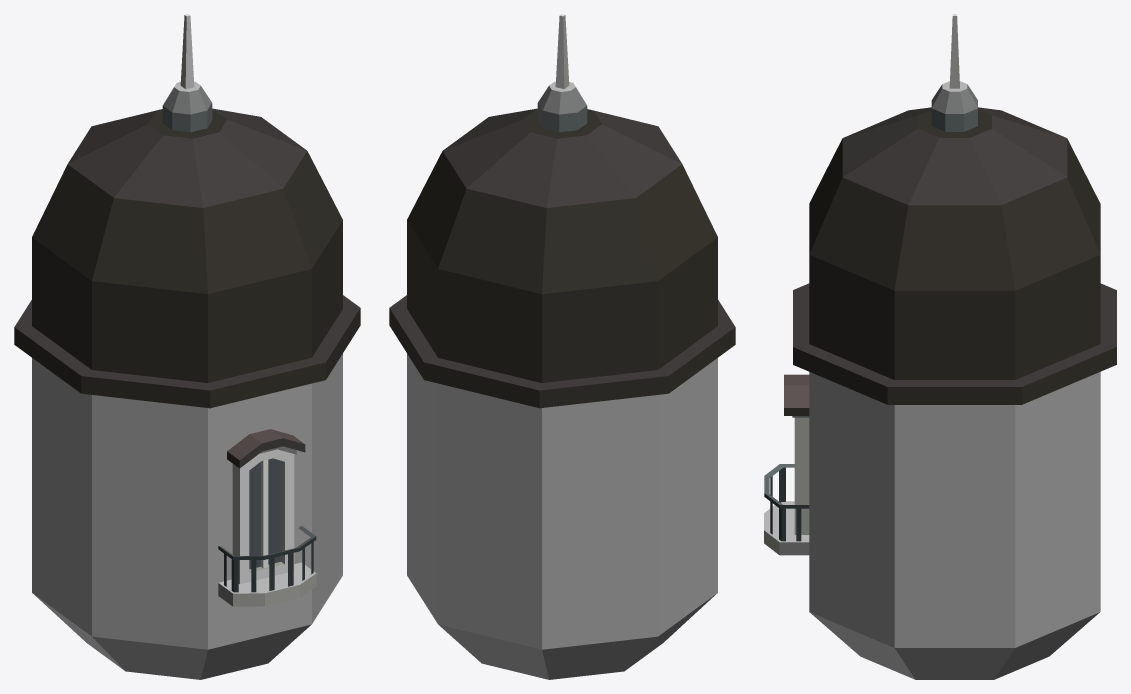
The model's file is TB_CITY_BD_Part_R_D.FBX.
3 views of the same model, side by side, from view 1: azimuth 30°, elevation 25°; view 2: azimuth 150°, elevation 25°; view 3: azimuth 270°, elevation 25° (orthographic).
Visible parts, largest first — view 1: TB_CITY_BD_Part_R_D; view 2: TB_CITY_BD_Part_R_D; view 3: TB_CITY_BD_Part_R_D.
Part boxes in pixels (x1=…): TB_CITY_BD_Part_R_D: x1=14, y1=14, x2=360, y2=679; TB_CITY_BD_Part_R_D: x1=389, y1=14, x2=735, y2=679; TB_CITY_BD_Part_R_D: x1=764, y1=14, x2=1116, y2=679.
Bounding box in the file's own units: 6.57 × 13.98 × 7.15.
